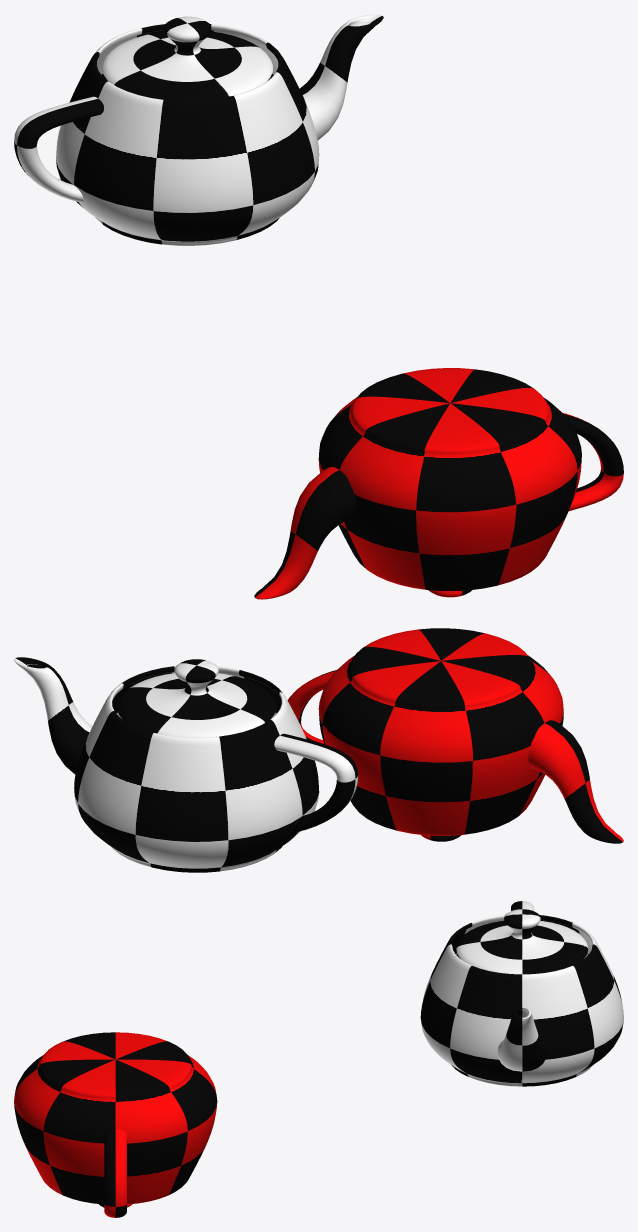
File: SingleTeapot-Mirrored-DiffuseTex.FBX
3 views of the same model, one above another, from view 1: azimuth 30°, elevation 25°; view 2: azimuth 150°, elevation 25°; view 3: azimuth 270°, elevation 25° (orthographic). The views are drawn at different scales.
Parts seen in each view (by area): view 1: Teapot001, Teapot002; view 2: Teapot001, Teapot002; view 3: Teapot001, Teapot002.
Boxes of the visible parts, x1,y1,x2,y2 form: Teapot001: (14, 14, 383, 245); Teapot002: (254, 368, 623, 599); Teapot001: (14, 657, 358, 872); Teapot002: (287, 628, 623, 843); Teapot001: (420, 901, 623, 1086); Teapot002: (14, 1032, 217, 1217).
Bounding box in the file's own units: 1.72 × 1.58 × 3.
Materials: 2 (2 with a texture image).
